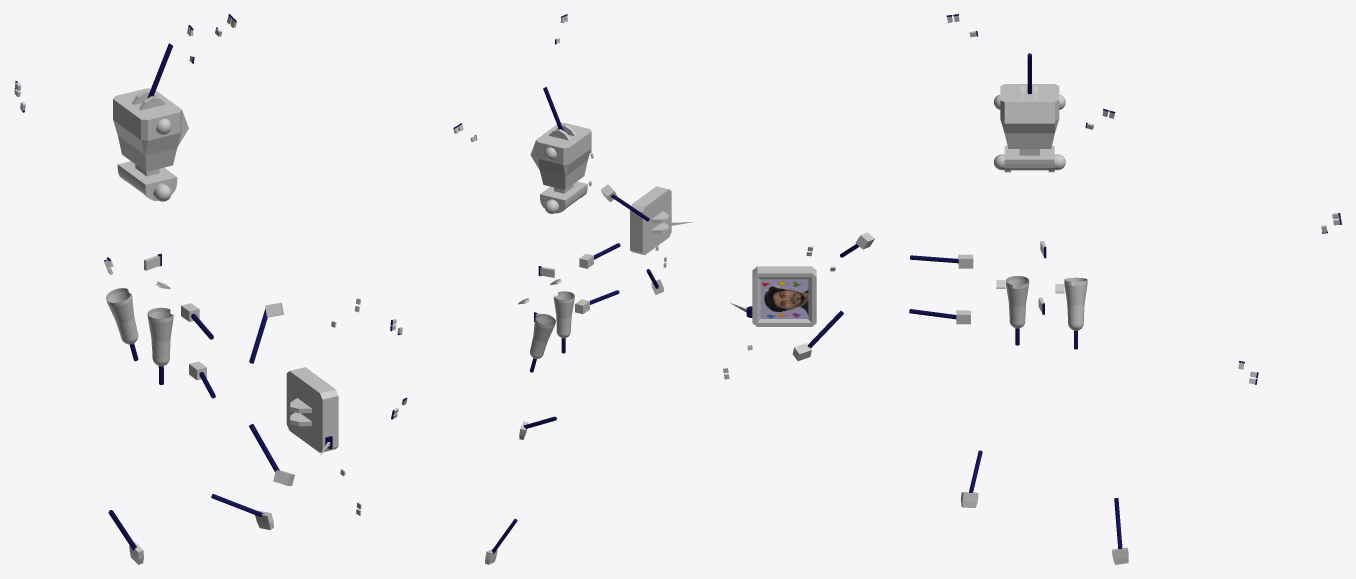
Rendered from model robot17.fbx.
The picture shows the model from 3 angles, left to right: view 1: azimuth 30°, elevation 25°; view 2: azimuth 150°, elevation 25°; view 3: azimuth 270°, elevation 25°; orthographic projection. The views are drawn at different scales.
Parts seen in each view (by area): view 1: chest, head, left shoe, right shoe; view 2: chest, head, left shoe, right shoe; view 3: chest, head, right shoe, left shoe.
Boxes of the visible parts, left/top/right/bottom form: chest: left=113, top=88, right=188, bottom=200; head: left=286, top=367, right=338, bottom=455; left shoe: left=147, top=307, right=173, bottom=366; right shoe: left=106, top=288, right=138, bottom=344; chest: left=530, top=123, right=591, bottom=213; head: left=630, top=186, right=693, bottom=255; left shoe: left=553, top=291, right=574, bottom=338; right shoe: left=530, top=314, right=555, bottom=358; chest: left=1000, top=84, right=1059, bottom=172; head: left=730, top=266, right=816, bottom=326; right shoe: left=1064, top=277, right=1087, bottom=330; left shoe: left=1006, top=276, right=1029, bottom=328.
Bounding box in the file's own units: 2.16 × 11.38 × 11.58.
